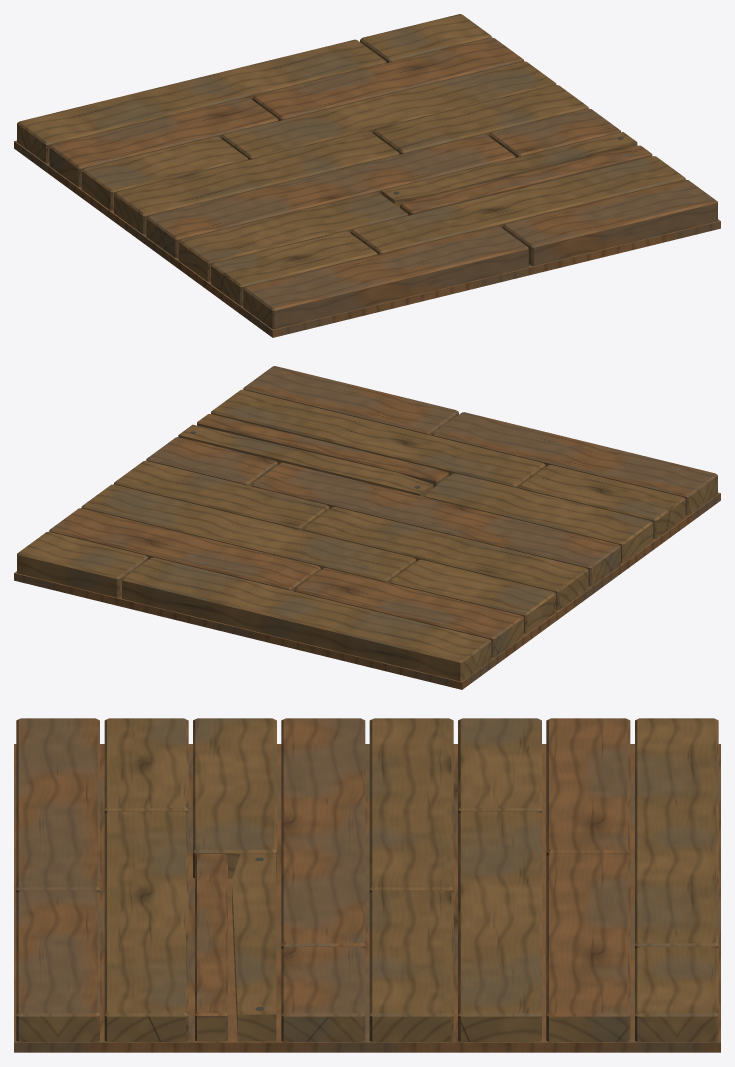
File: b02_floor_worn.fbx
The picture shows the model from 3 angles, top to bottom: view 1: azimuth 30°, elevation 25°; view 2: azimuth 150°, elevation 25°; view 3: azimuth 270°, elevation 25°; orthographic projection. The views are drawn at different scales.
Parts seen in each view (by area): view 1: b02_floor_worn; view 2: b02_floor_worn; view 3: b02_floor_worn.
Part boxes in pixels (bbox=[...]): b02_floor_worn: bbox=[14, 14, 720, 337]; b02_floor_worn: bbox=[14, 366, 720, 689]; b02_floor_worn: bbox=[14, 718, 720, 1052].
Size of the model in its own units: 25600 by 25600 by 1500.
